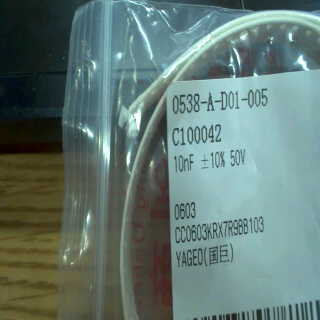10nF: (172, 152, 198, 180)
